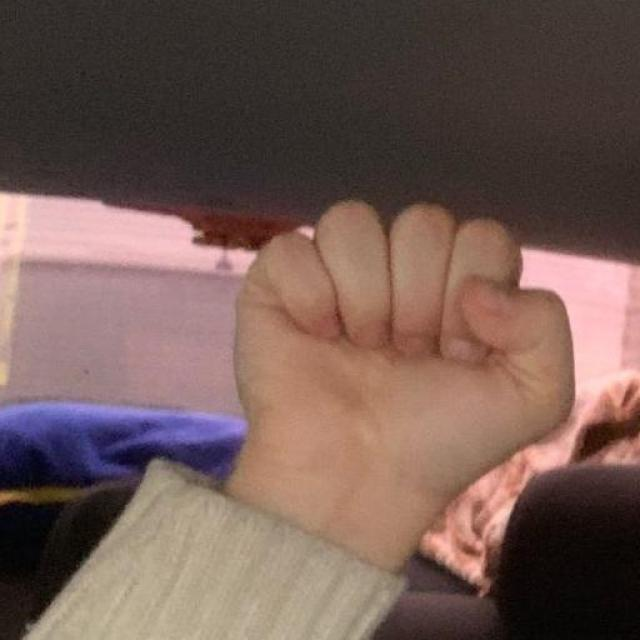hand: (223, 196, 576, 574)
